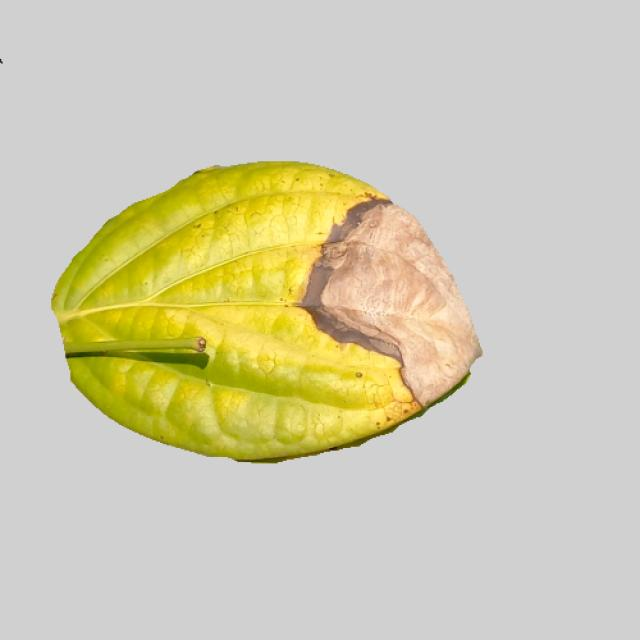leaf-blight: (42, 155, 503, 465)
